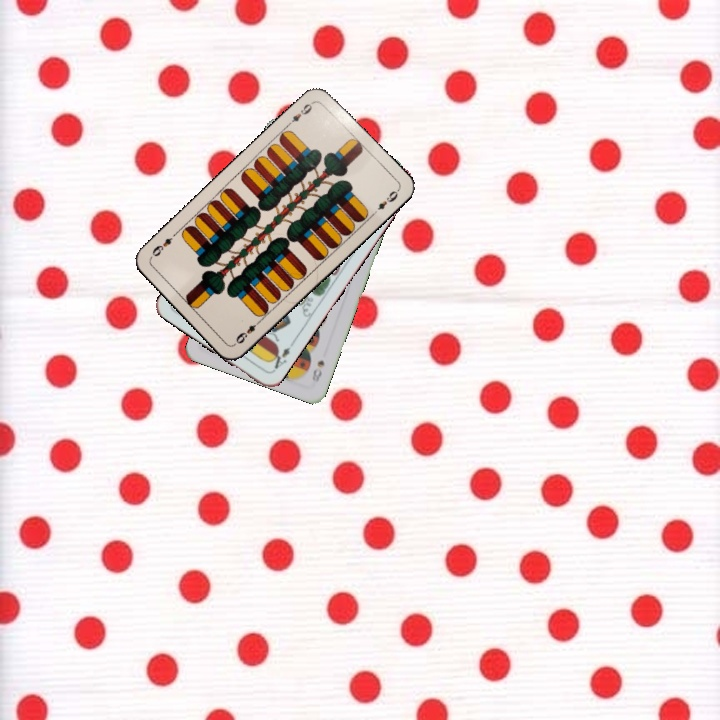E9: (283, 98, 316, 129), (232, 316, 264, 346)
EA: (266, 343, 293, 374)
S8: (308, 356, 327, 385)
